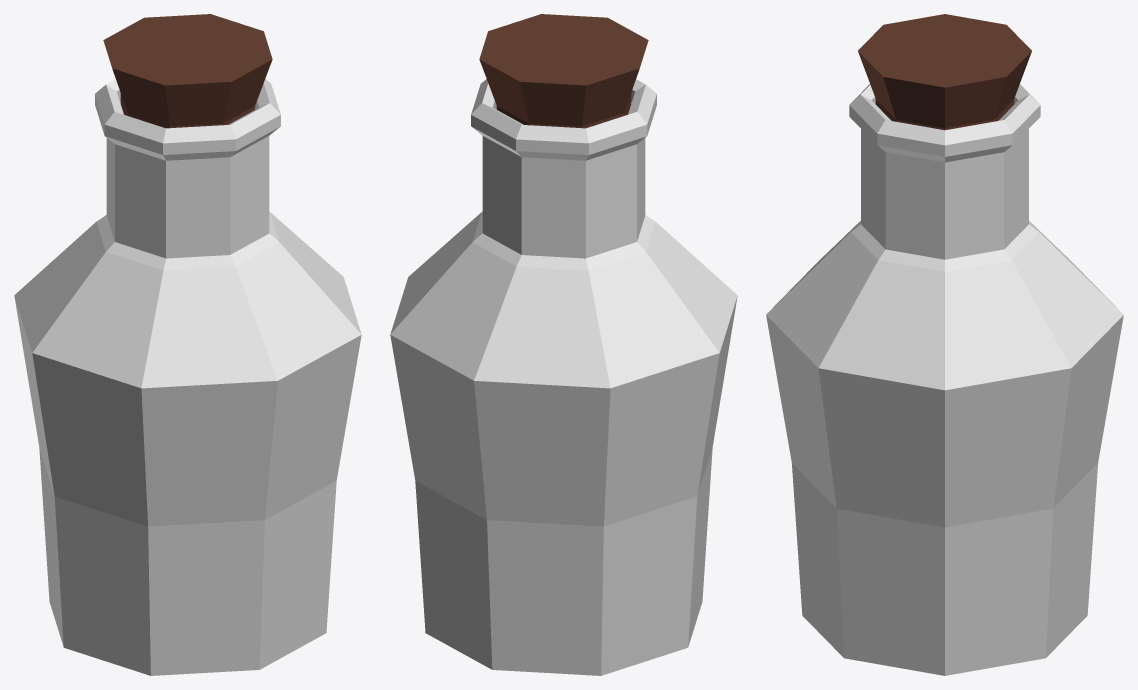
File: m_Item_medi02.FBX
3 renders of one model, left to right at view 1: azimuth 30°, elevation 25°; view 2: azimuth 150°, elevation 25°; view 3: azimuth 270°, elevation 25°, orthographic.
Visible parts, largest first — view 1: Cylinder.006, ca.001; view 2: Cylinder.006, ca.001; view 3: Cylinder.006, ca.001.
Boxes of the visible parts, x1,y1,x2,y2 form: Cylinder.006: (14,79,361,675); ca.001: (103,14,272,128); Cylinder.006: (390,79,737,675); ca.001: (479,14,648,128); Cylinder.006: (766,84,1123,675); ca.001: (858,14,1031,130).
Bounding box in the file's own units: 19.87 × 34.6 × 19.87.
